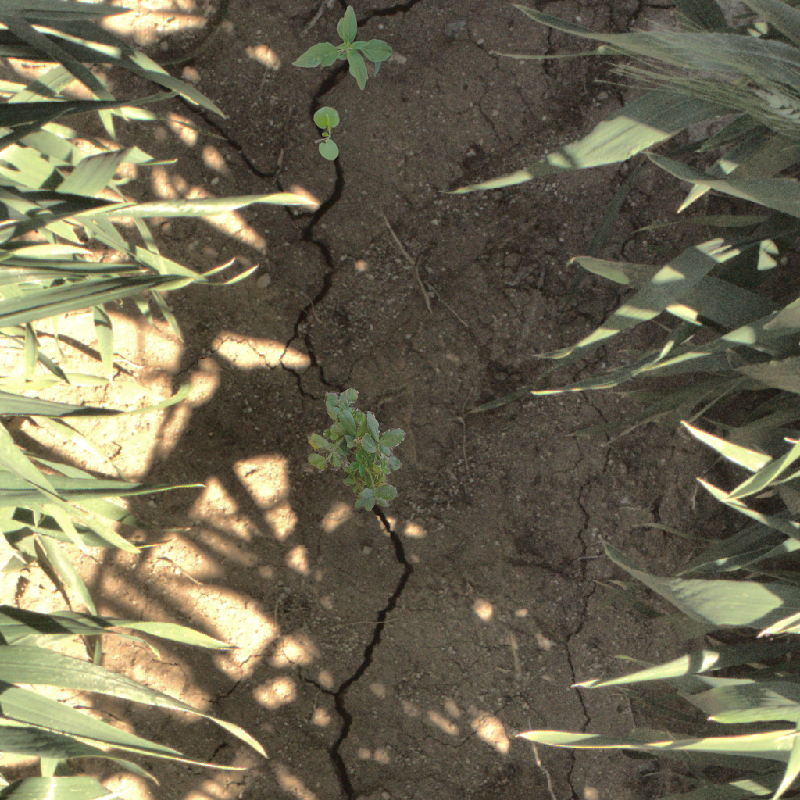spikelet: (770, 90, 800, 131)
weed: (304, 391, 403, 511), (292, 5, 393, 91), (313, 106, 340, 161)
